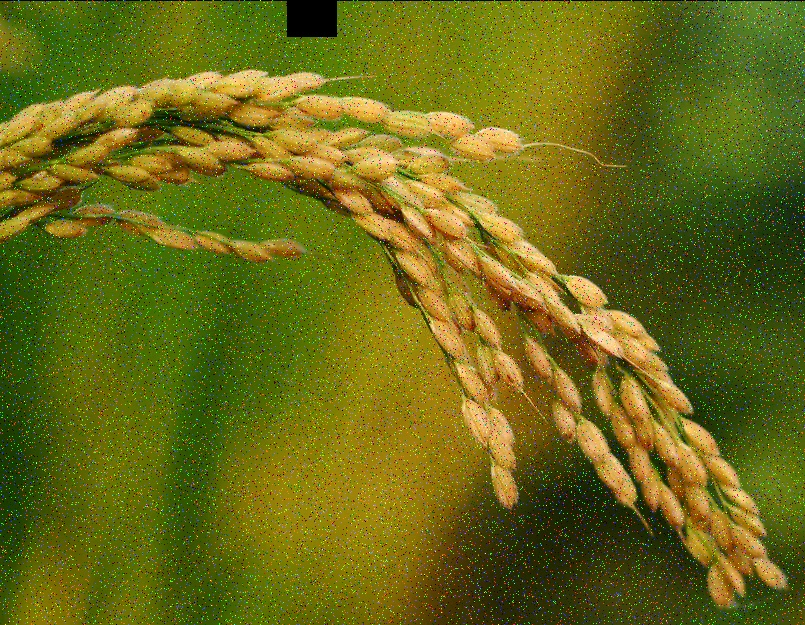rice: (1, 34, 804, 607)
